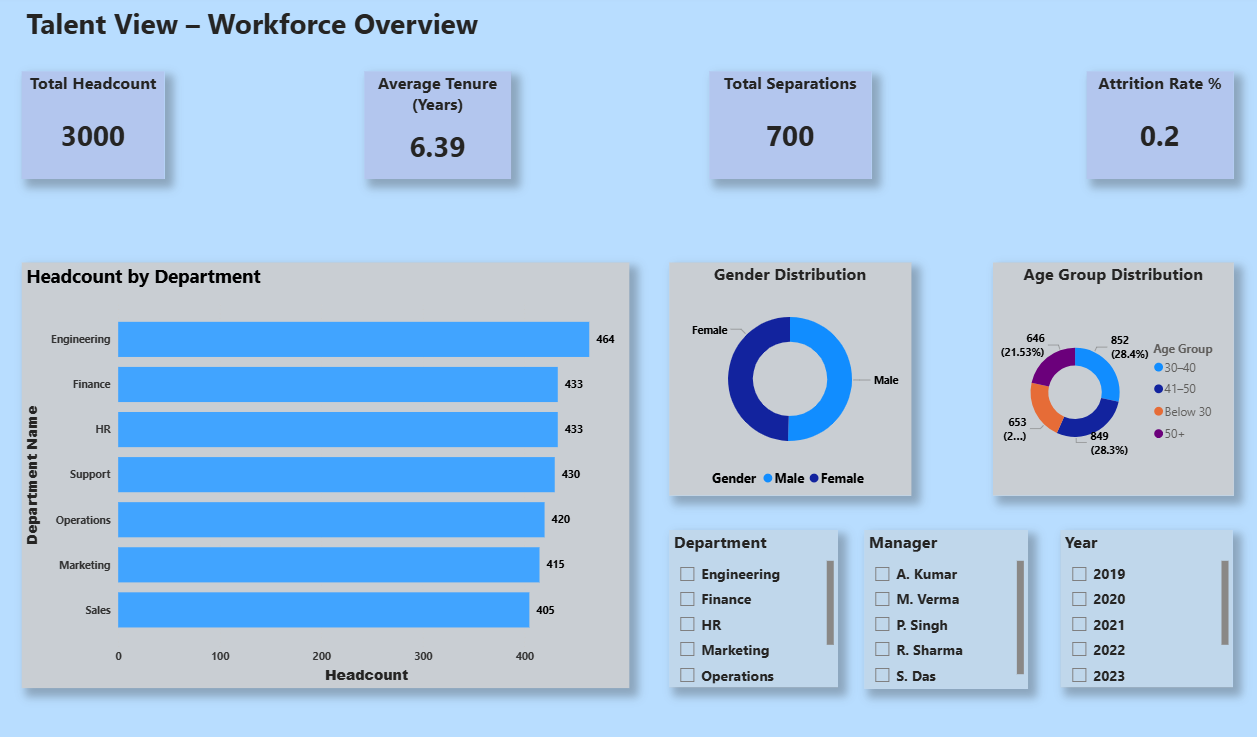

The dashboard page shown, as its layout file describes it:
{"tool":"powerbi","page":{"name":"Workforce Overview","canvas":[1440,2560],"ordinal":0},"visuals":[{"type":"textbox","box":[26.5,0,548.5,55.9],"z":0},{"type":"card","title":"Total Headcount","fields":{"Values":["_Measures.Headcount"]},"box":[26.5,80.9,163.2,123.5],"z":1000},{"type":"card","title":"Average Tenure (Years)","fields":{"Values":["_Measures.Avg Tenure (Years)"]},"box":[419.1,80.9,167.6,123.5],"z":2000},{"type":"card","title":"Total Separations","fields":{"Values":["_Measures.Separations"]},"box":[813.2,80.9,185.3,123.5],"z":3000},{"type":"card","title":"Attrition Rate %","fields":{"Values":["_Measures.Attrition Rate %"]},"box":[1244.1,80.9,167.6,123.5],"z":4000},{"type":"clusteredBarChart","title":"Headcount by Department","fields":{"Category":["dDepartment.DepartmentName"],"Y":["_Measures.Headcount"]},"box":[26.5,300,694.1,486.8],"z":5000},{"type":"donutChart","title":"Gender Distribution","fields":{"Y":["_Measures.Headcount"],"Category":["dEmployee.Gender"]},"box":[767.6,300,276.5,266.2],"z":6000},{"type":"donutChart","title":"Age Group Distribution","fields":{"Y":["_Measures.Headcount"],"Category":["dEmployee.Age Group"]},"box":[1136.8,300,275,266.2],"z":7000},{"type":"slicer","title":"Department","fields":{"Values":["dDepartment.DepartmentName"]},"box":[767.1,605.7,192.9,180],"z":8000},{"type":"slicer","title":"Manager","fields":{"Values":["dEmployee.Manager"]},"box":[990,605.7,187.1,181.4],"z":9000},{"type":"slicer","title":"Year","fields":{"Values":["dDate.Year"]},"box":[1214.3,605.7,197.1,180],"z":10000}]}

Visuals, with their boxes on the page's 1440x2560 design canvas (x1, y1, x2, y2). These are canvas units, not pixel positions in the 1257x737 screenshot, which may show the page scaled, cropped or inside an application window:
textbox: (x1=26, y1=0, x2=575, y2=56)
"Total Headcount" card: (x1=26, y1=81, x2=190, y2=204)
"Average Tenure (Years)" card: (x1=419, y1=81, x2=587, y2=204)
"Total Separations" card: (x1=813, y1=81, x2=998, y2=204)
"Attrition Rate %" card: (x1=1244, y1=81, x2=1412, y2=204)
"Headcount by Department" clusteredBarChart: (x1=26, y1=300, x2=721, y2=787)
"Gender Distribution" donutChart: (x1=768, y1=300, x2=1044, y2=566)
"Age Group Distribution" donutChart: (x1=1137, y1=300, x2=1412, y2=566)
"Department" slicer: (x1=767, y1=606, x2=960, y2=786)
"Manager" slicer: (x1=990, y1=606, x2=1177, y2=787)
"Year" slicer: (x1=1214, y1=606, x2=1411, y2=786)
